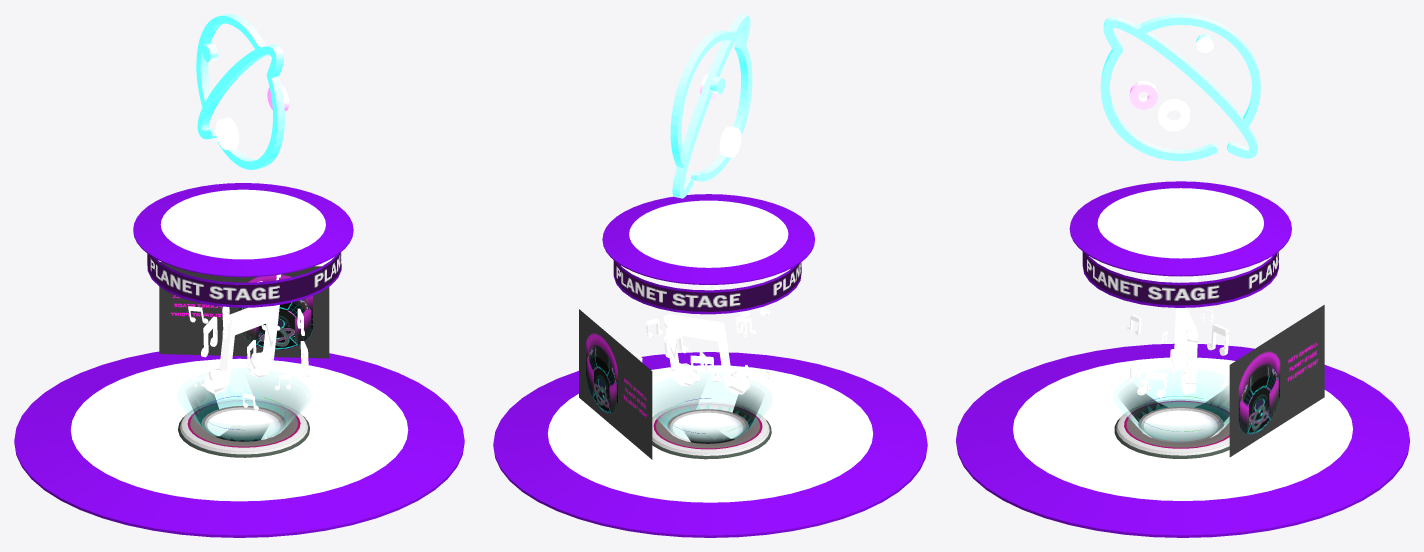
Rendered from Stageteleporter.glb.
The picture shows the model from 3 angles, left to right: view 1: azimuth 30°, elevation 25°; view 2: azimuth 150°, elevation 25°; view 3: azimuth 270°, elevation 25°; orthographic projection. The views are drawn at different scales.
Parts seen in each view (by area): view 1: Whitepad.022, Stageteleporter, Whitepad.014; view 2: Whitepad.022, Stageteleporter, Whitepad.014; view 3: Whitepad.022, Stageteleporter, Whitepad.014.
Boxes of the visible parts, x1,y1,x2,y2 form: Whitepad.022: (14,351,464,537); Stageteleporter: (147,14,341,457); Whitepad.014: (133,183,353,277); Whitepad.022: (493,352,927,537); Stageteleporter: (579,14,801,459); Whitepad.014: (602,194,814,284); Whitepad.022: (956,343,1409,537); Stageteleporter: (1082,14,1324,458); Whitepad.014: (1069,181,1291,276).
Size of what is drawn, in the model's own units: 18.86 by 20.02 by 18.86.
Materials: 7 (4 with a texture image).
